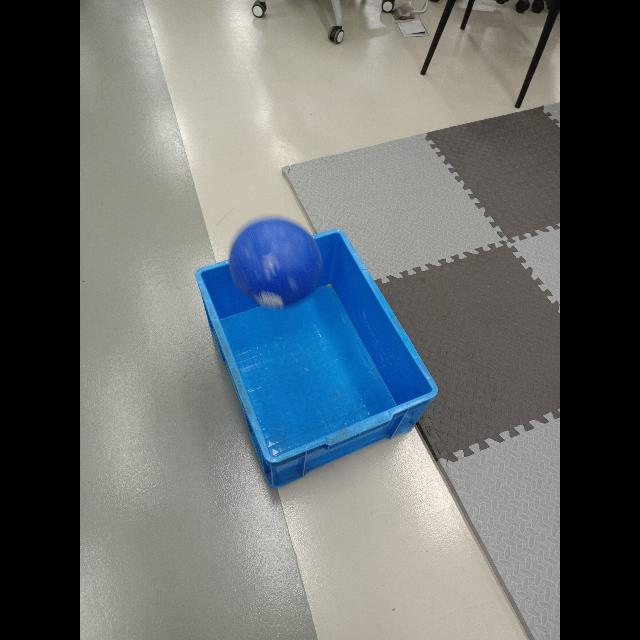B: (228, 221, 320, 305)
